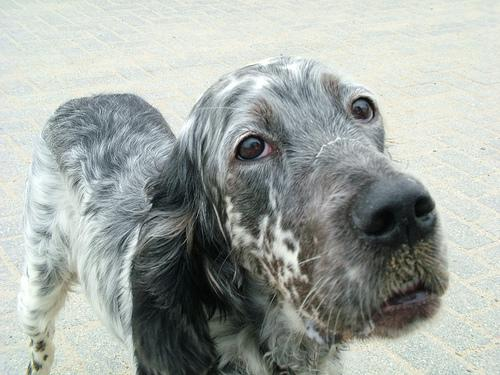dog-english_setter: (129, 53, 447, 373)
